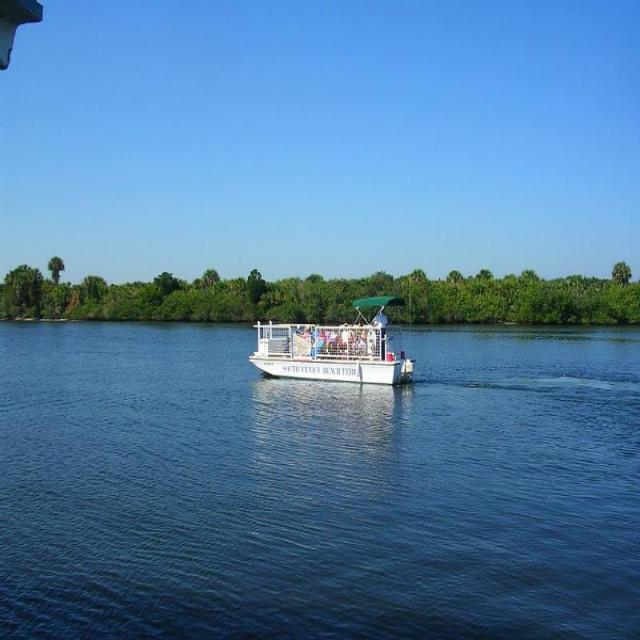houseboat: (237, 286, 416, 386)
